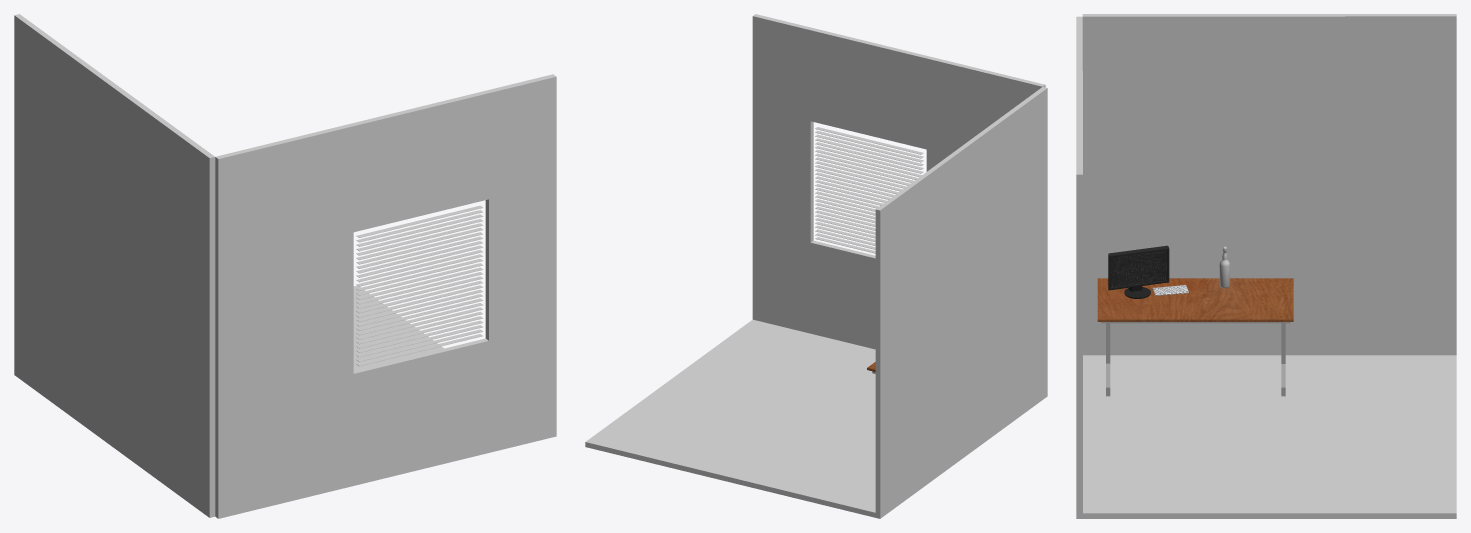
File: hacker_room.dae
The picture shows the model from 3 angles, left to right: view 1: azimuth 30°, elevation 25°; view 2: azimuth 150°, elevation 25°; view 3: azimuth 270°, elevation 25°; orthographic projection. The views are drawn at different scales.
Parts seen in each view (by area): view 1: SketchUp; view 2: SketchUp; view 3: SketchUp, JERKER_Schreibtisch (×2), LCD_Panel (×2).
Boxes of the visible parts, x1,y1,x2,y2 form: SketchUp: (14,14,556,518); SketchUp: (585,14,1047,518); SketchUp: (1076,14,1456,518); JERKER_Schreibtisch (×2): (1097,278,1293,396); LCD_Panel (×2): (1108,245,1169,290).
Size of the model in its own units: 122 by 122 by 122.
